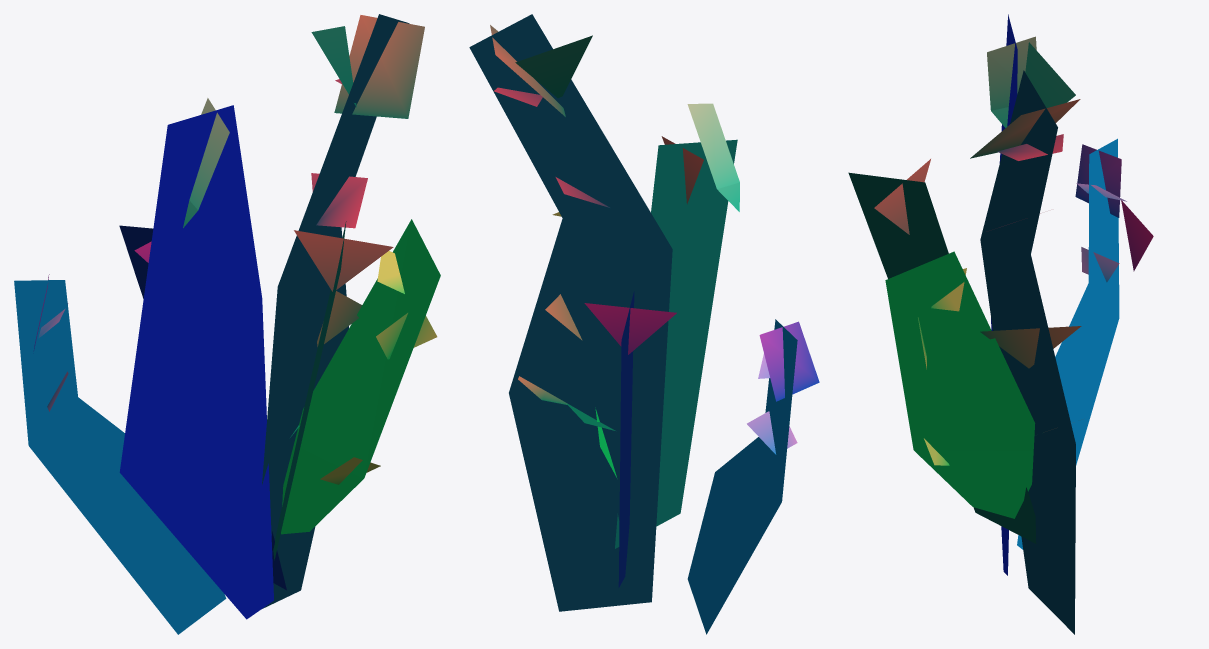
File: Nordic_Coastal_Groundcover_vlqkdeaja_Mid_vlqkdeaja_VarK_LOD1.fbx
3 views of the same model, side by side, from view 1: azimuth 30°, elevation 25°; view 2: azimuth 150°, elevation 25°; view 3: azimuth 270°, elevation 25° (orthographic). The views are drawn at different scales.
Visible parts, largest first — view 1: _fzoo_VarK_LOD3; view 2: _fzoo_VarK_LOD3; view 3: _fzoo_VarK_LOD3.
Boxes of the visible parts, box(x1,y1,x2,y2) form: _fzoo_VarK_LOD3: box(14, 14, 440, 634); _fzoo_VarK_LOD3: box(469, 14, 819, 634); _fzoo_VarK_LOD3: box(848, 14, 1153, 634).
Size of the model in its own units: 30.33 by 45.9 by 24.34.
